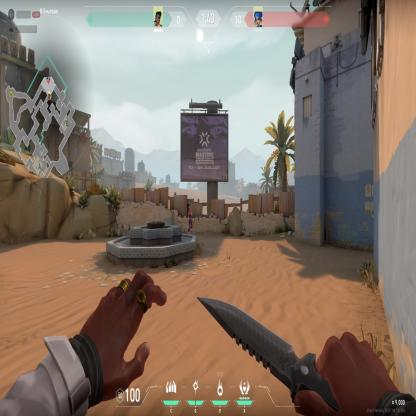enemy: (186, 205, 194, 234)
